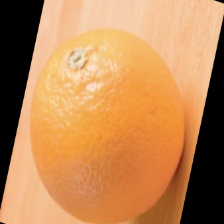orange: (33, 19, 169, 209)
